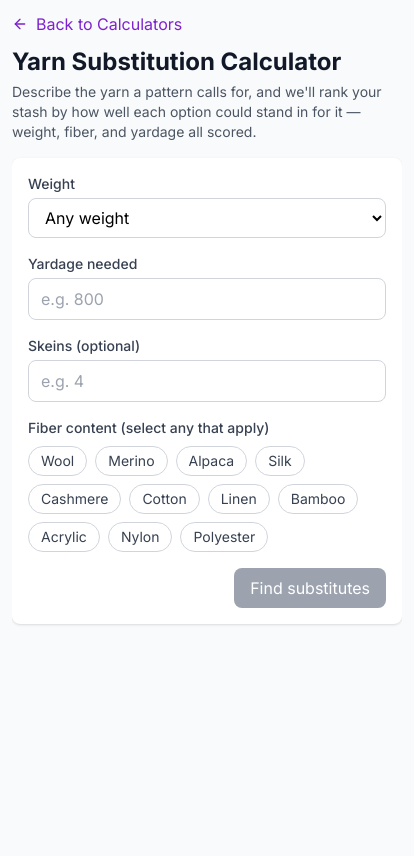
it: YarnSubstitutionCalculator › renders a red banner when no substitute is available
Click the button "wool": coordinates (58, 461) [28,446,87,476]
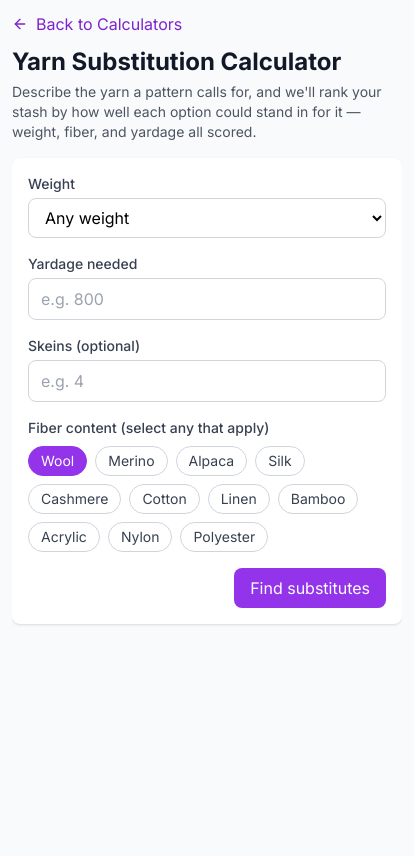
Click the button "Find substitutes": coordinates (310, 588) [234,568,386,608]
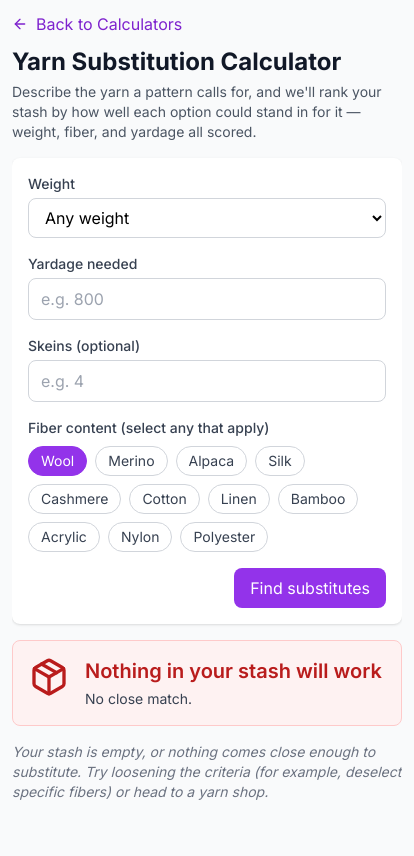
expect the heading "Nothing in your stash will work" is shown: met, box [85,657,382,685]
